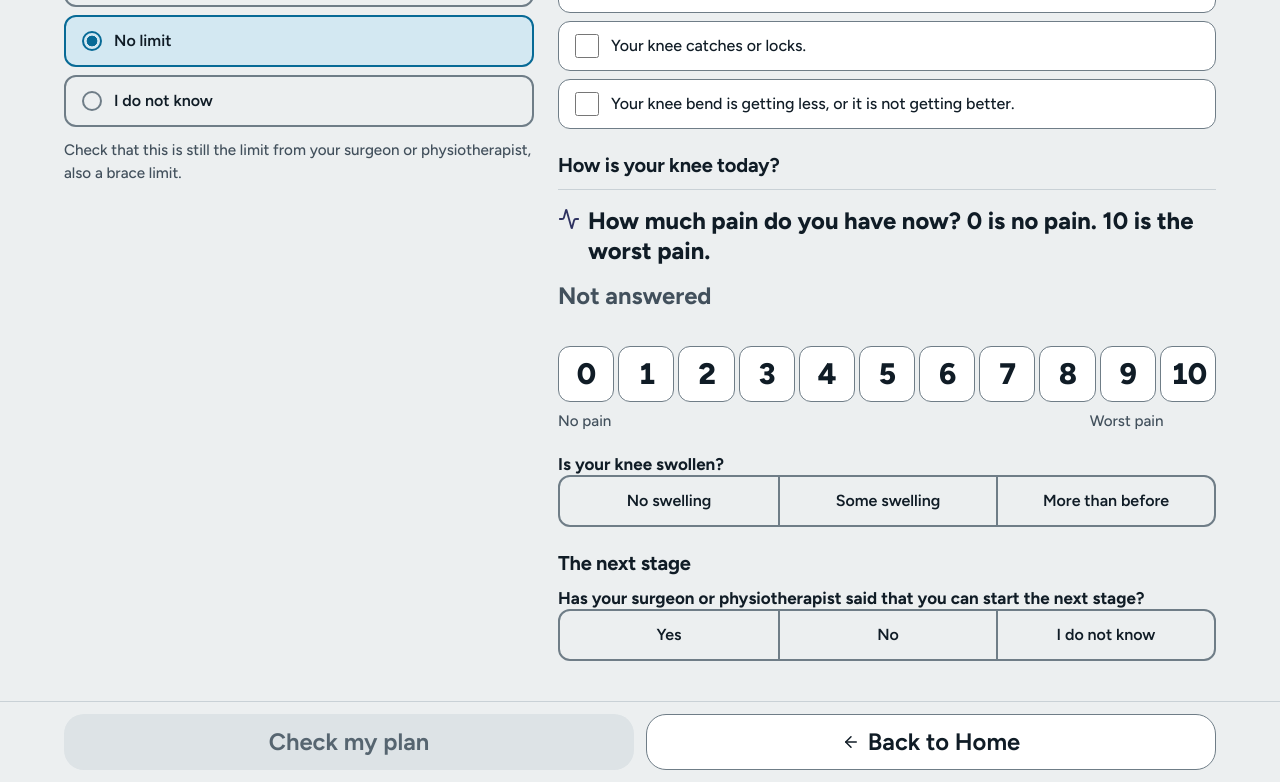
it: UpdatePlan, the questions of version 2 › asks the three questions only after the answer yes to the clearance question
(page scrolled)
Expected: the element "Do you walk without crutches" is not shown
Click the radio button labelled "No": (887, 635) [778, 611, 996, 659]
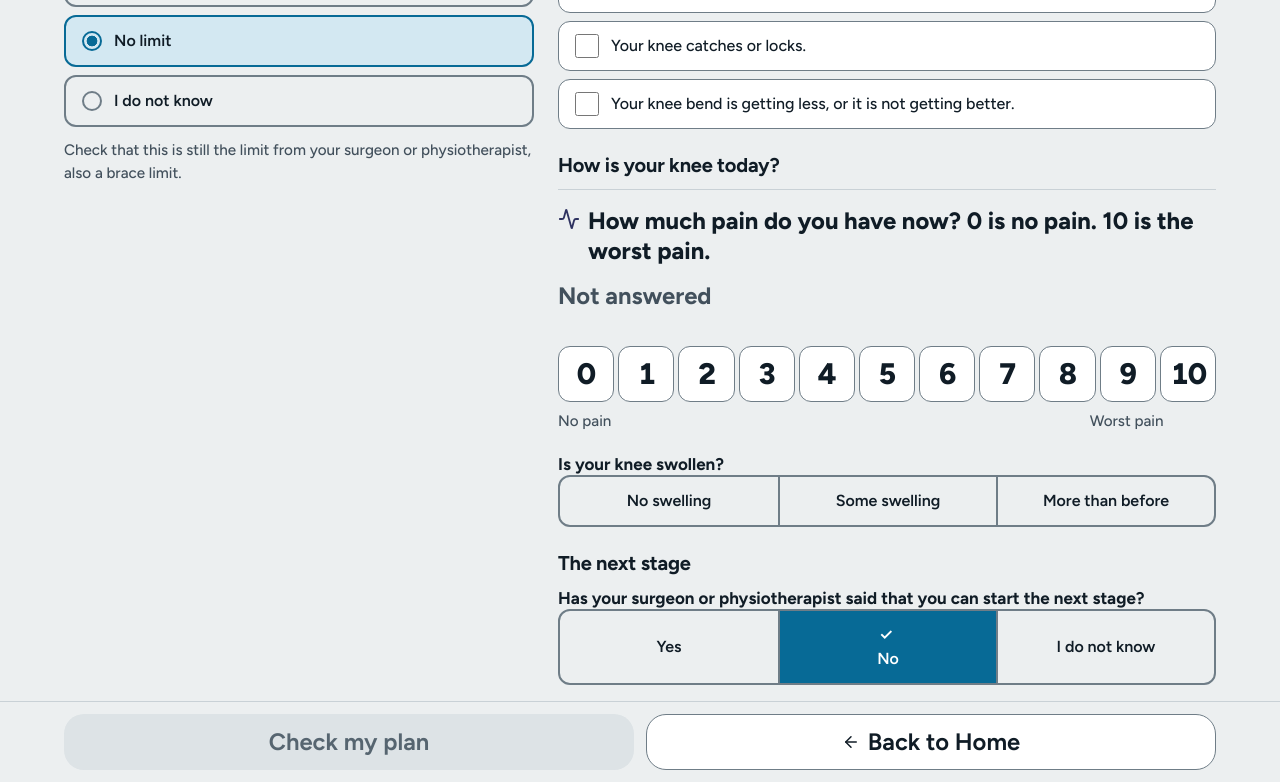
Expected: the element "Do you walk without crutches" is not shown
Click the radio button labelled "Yes": (669, 646) [656, 637, 682, 656]
(page scrolled)
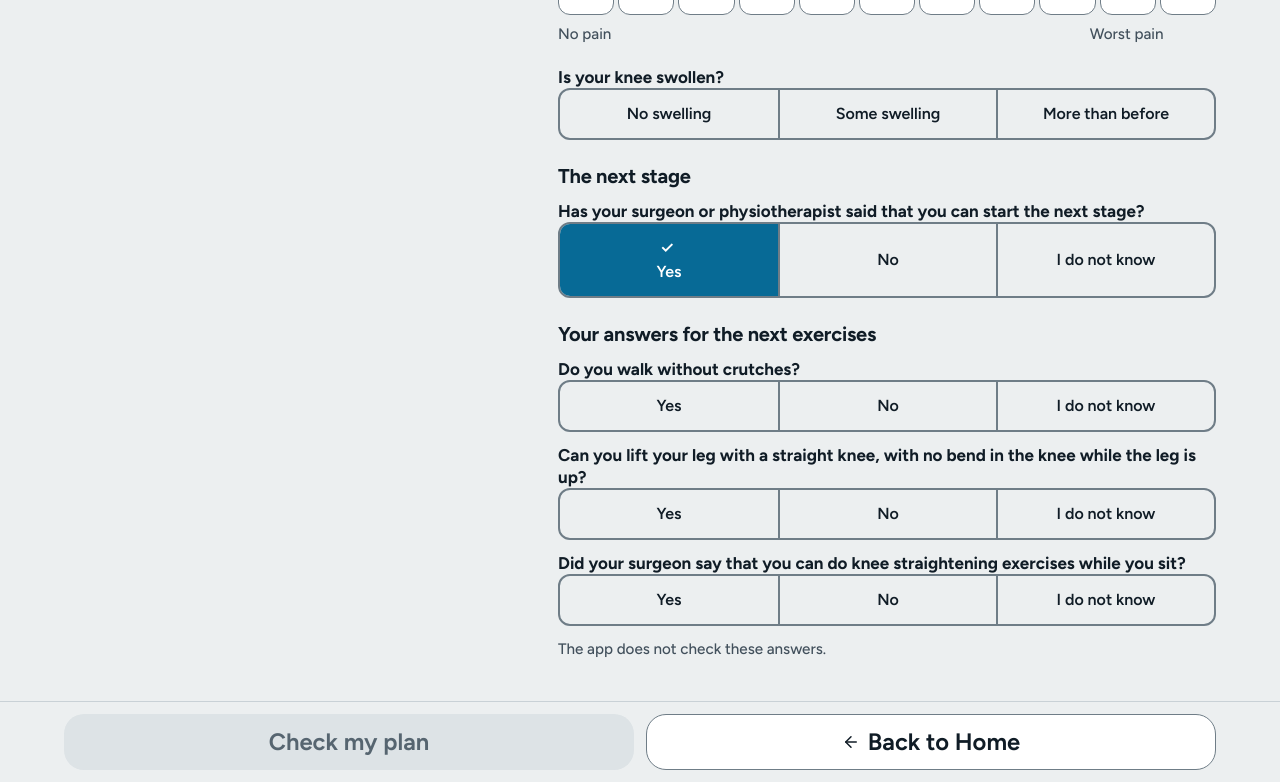
Now the element "Do you walk without crutches? Yes No I do not know" is shown, box [558, 358, 1216, 432]
Now the element "Can you lift your leg with a straight knee" is shown, box [558, 444, 1216, 540]
Now the element "knee straightening exercises while you sit" is shown, box [558, 552, 1216, 626]
